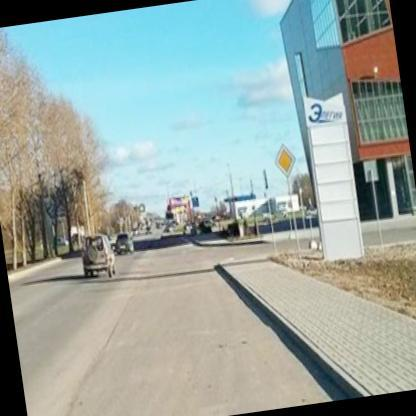road_sign: (276, 145, 295, 177)
